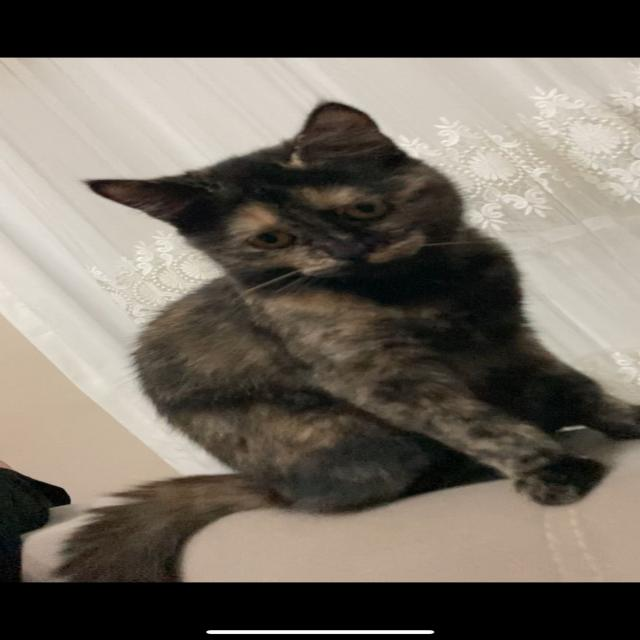authorized: (50, 100, 638, 582)
